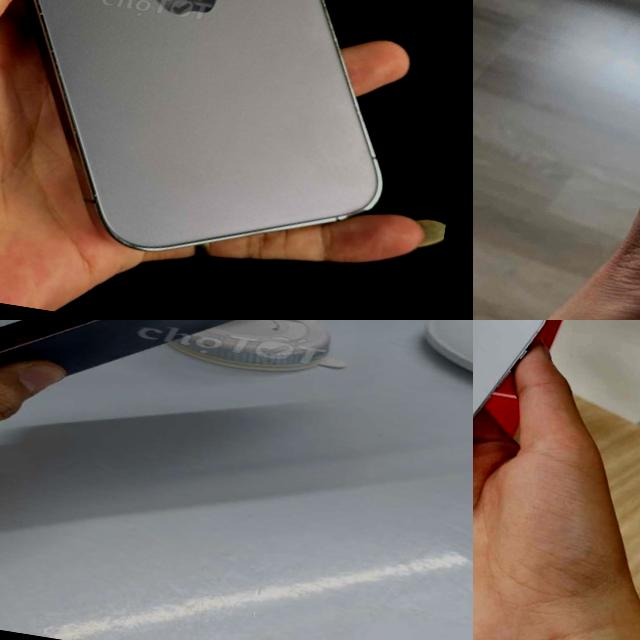scratch: (38, 320, 128, 348)
